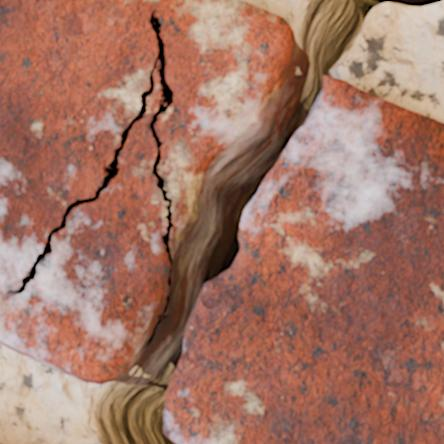broken_brick: (0, 0, 298, 384), (164, 76, 443, 443)
crack: (2, 0, 442, 443)
